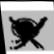not correct: (1, 9, 54, 54)
